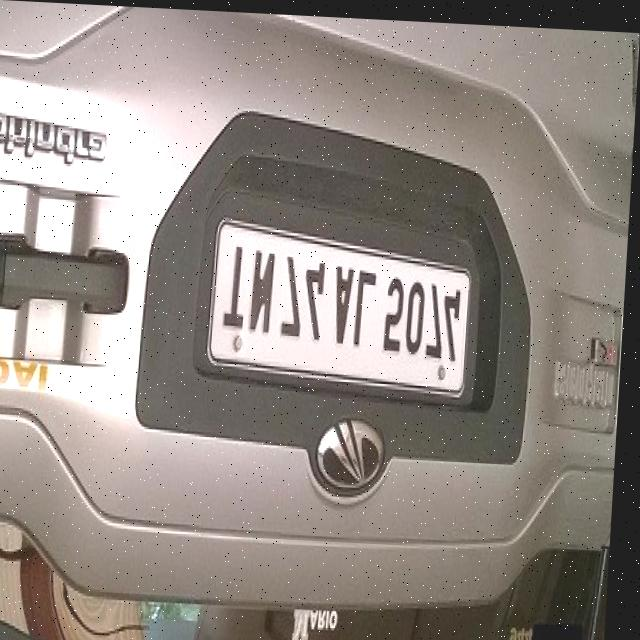plate: (209, 212, 476, 391)
